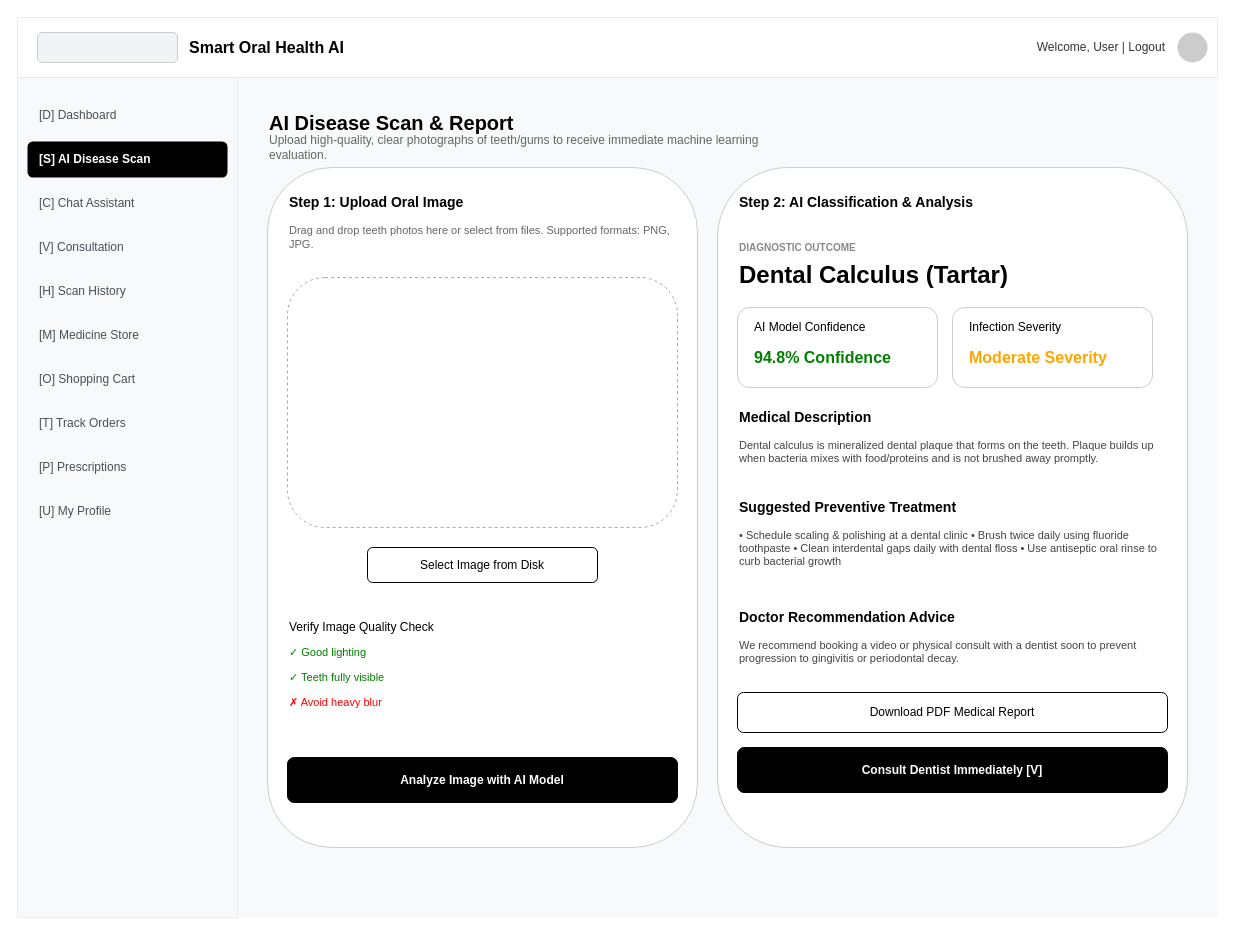
The diagram is 1235 pixels wide and 935 high, and some of its shapes have lost their labels. Here are the shapes that lost their labels. From the top down, the centre of each, then its label:
At (x=107, y=47): "Tooth Mascot [Animated]".
At (x=482, y=402): "[Tooth Image Placeholder Box] Click to Browse or Drag File".
